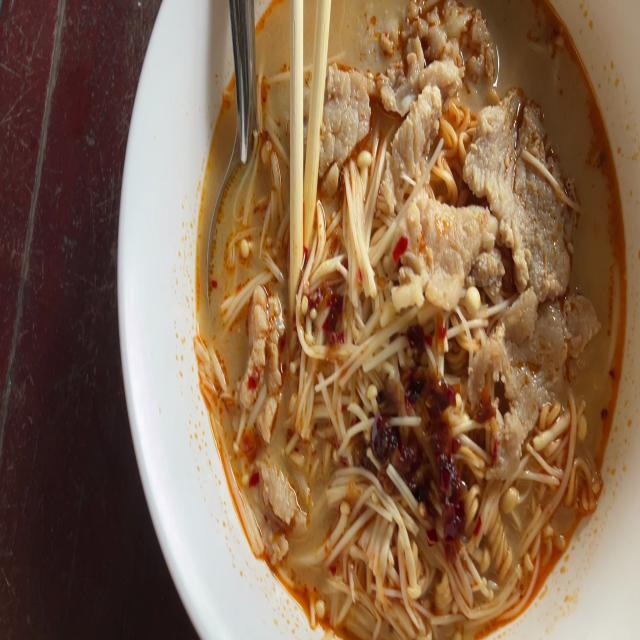noodle: (191, 0, 630, 630)
